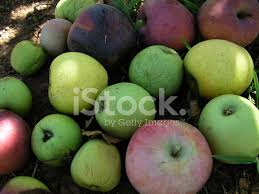apple: (125, 119, 209, 194), (187, 37, 253, 95), (44, 56, 105, 112), (98, 86, 159, 127)
damaged_apple: (69, 7, 133, 57), (64, 138, 121, 189), (130, 43, 184, 92), (30, 116, 77, 161)
